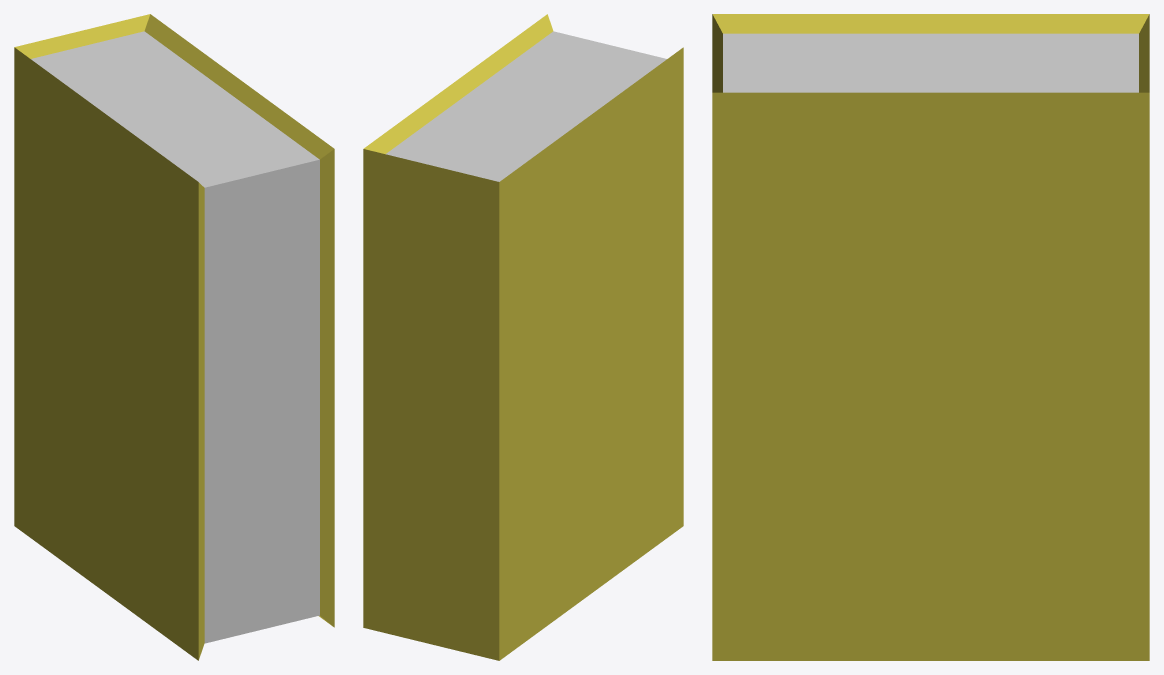
The model's file is Yellow Book.fbx.
3 renders of one model, left to right at view 1: azimuth 30°, elevation 25°; view 2: azimuth 150°, elevation 25°; view 3: azimuth 270°, elevation 25°, orthographic. The views are drawn at different scales.
Visible parts, largest first — view 1: Cube; view 2: Cube; view 3: Cube.
Boxes of the visible parts, x1,y1,x2,y2 form: Cube: (14,14,334,660); Cube: (363,14,683,660); Cube: (712,14,1149,660).
Size of the model in its own units: 48.04 by 162 by 113.
